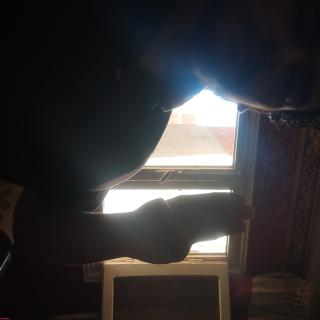THA: (138, 82, 204, 275)
